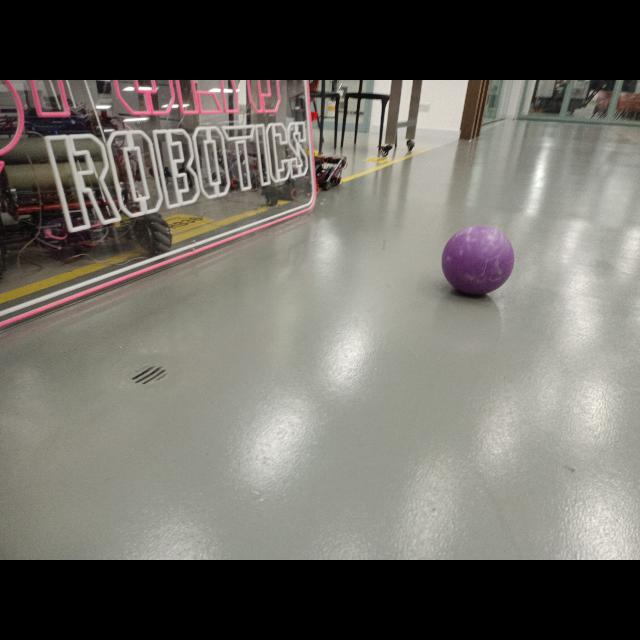P: (437, 224, 518, 300)
